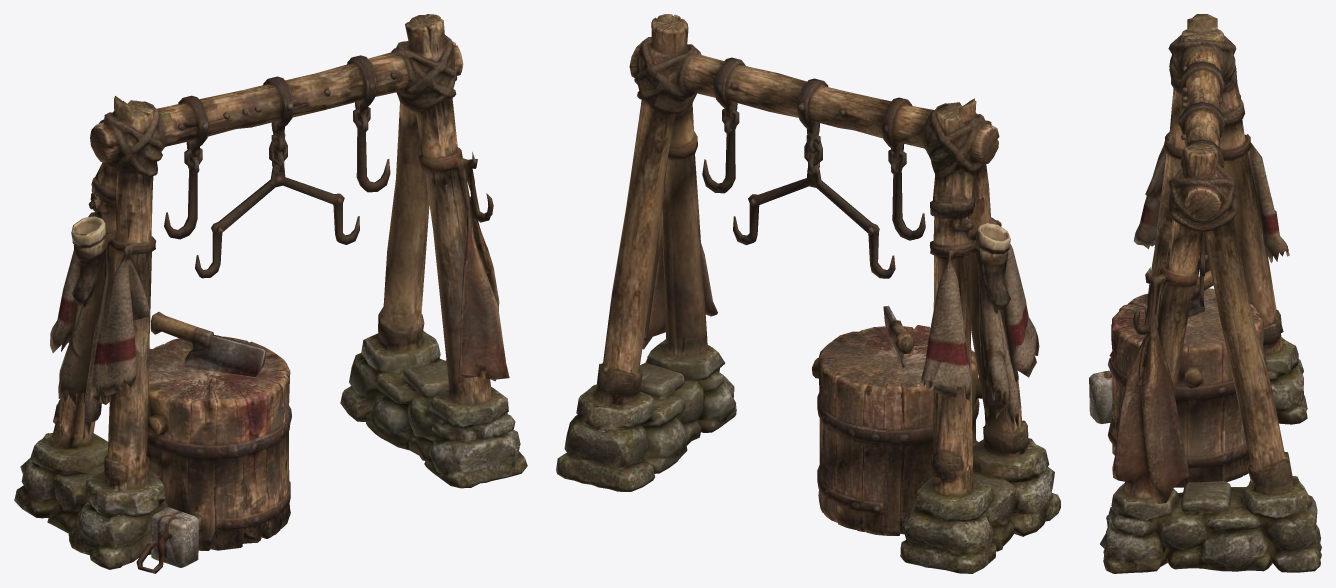
File: th_carving_frame.glb
The picture shows the model from 3 angles, left to right: view 1: azimuth 30°, elevation 25°; view 2: azimuth 150°, elevation 25°; view 3: azimuth 270°, elevation 25°; orthographic projection. The views are drawn at different scales.
Visible parts, largest first — view 1: th_carving_frame; view 2: th_carving_frame; view 3: th_carving_frame.
Boxes of the visible parts, x1,y1,x2,y2 form: th_carving_frame: [14, 14, 527, 573]; th_carving_frame: [556, 14, 1060, 573]; th_carving_frame: [1089, 14, 1321, 573].
Bounding box in the file's own units: 2.2 × 2.2 × 1.12.
Materials: 1 (1 with a texture image).
